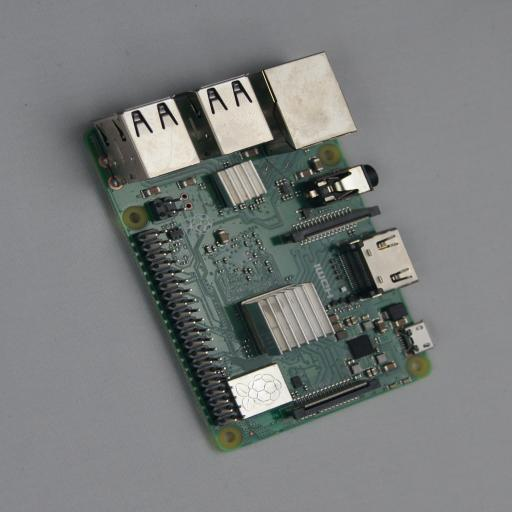Raspberry Pi 3 B-: (63, 51, 433, 452)
